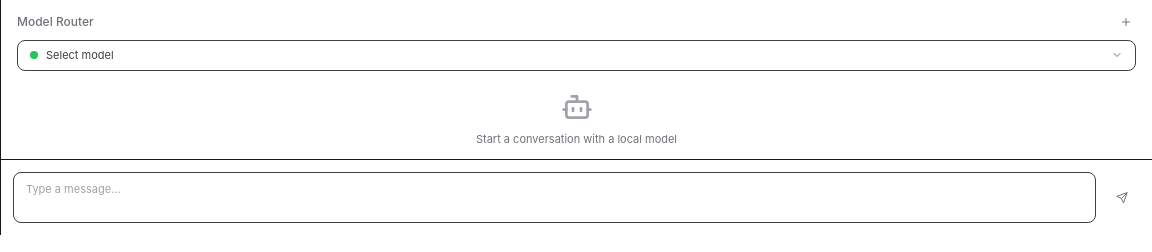
Test: ModelRouterPanel › ModelSelector › shows "No models installed" when models are empty and Ollama is running
Click the button "Select model" at (80, 55), box 17,40 -> 1136,70
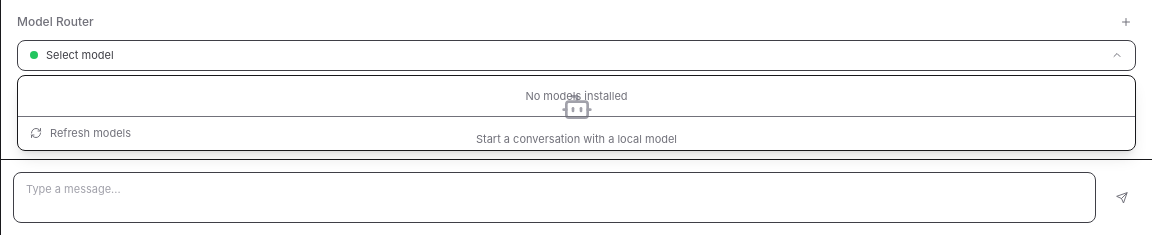
Expected: the text "No models installed" is shown, 525,88 -> 628,102
